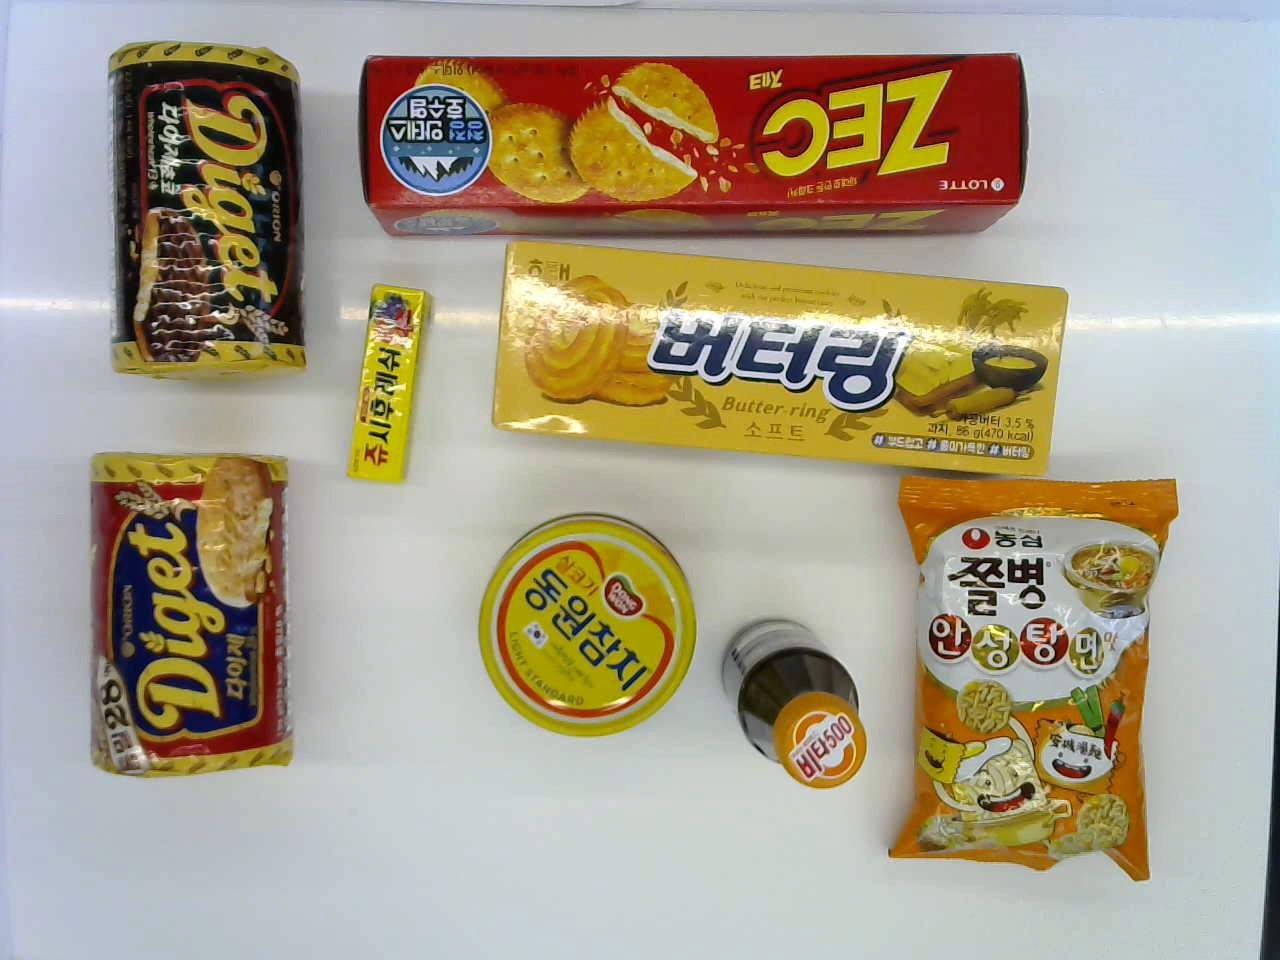buttering: (504, 234, 1063, 484)
diget_choco: (86, 35, 308, 380)
diget_ori: (74, 436, 300, 773)
jjolbyung_noodle: (889, 472, 1205, 868)
juicyfresh: (347, 271, 438, 493)
tuna: (476, 509, 701, 746)
vita500: (721, 620, 872, 790)
zec: (349, 45, 1034, 241)
